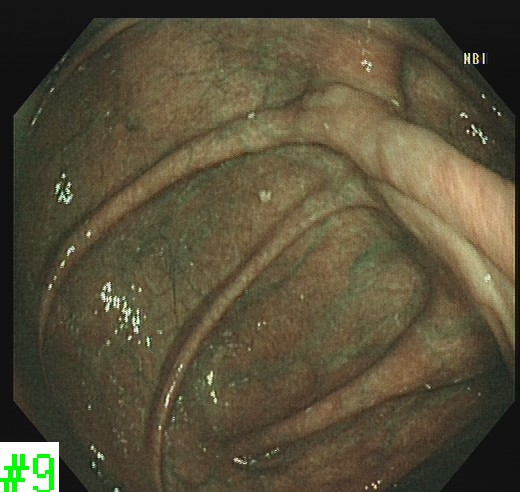adenoma: (298, 80, 359, 113)
